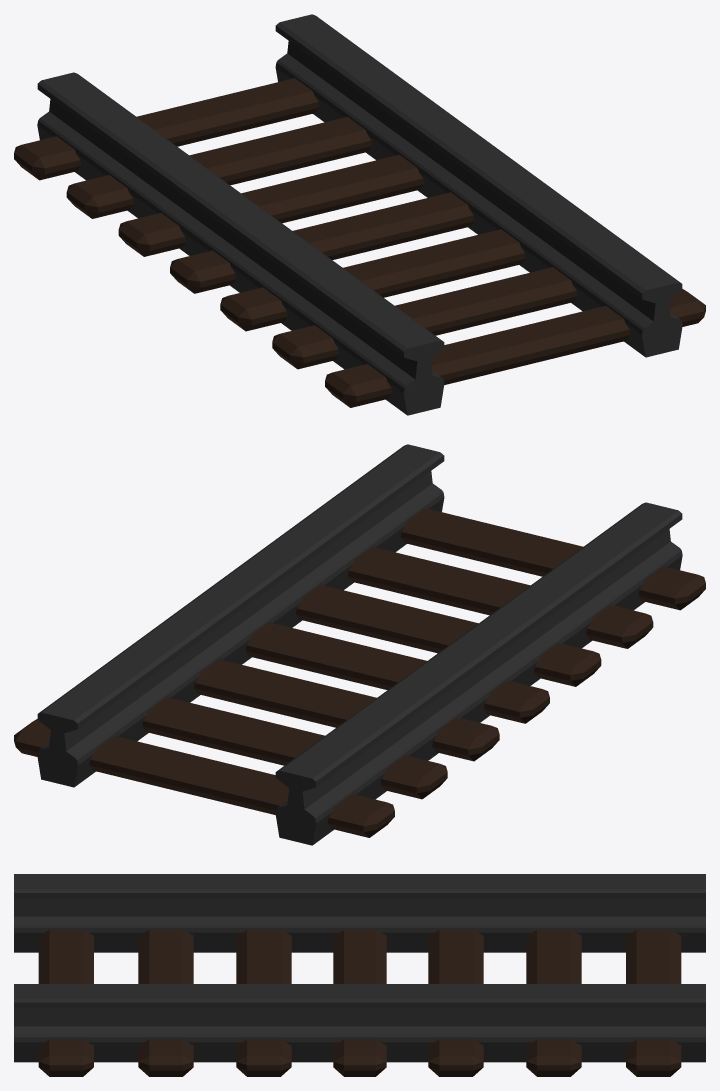
The picture shows the model from 3 angles, top to bottom: view 1: azimuth 30°, elevation 25°; view 2: azimuth 150°, elevation 25°; view 3: azimuth 270°, elevation 25°; orthographic projection. The views are drawn at different scales.
Visible parts, largest first — view 1: Railroad8; view 2: Railroad8; view 3: Railroad8.
Boxes of the visible parts, x1,y1,x2,y2 form: Railroad8: (14,14,705,415); Railroad8: (14,444,705,845); Railroad8: (14,874,705,1076).
Bounding box in the file's own units: 103 × 18.16 × 180.
